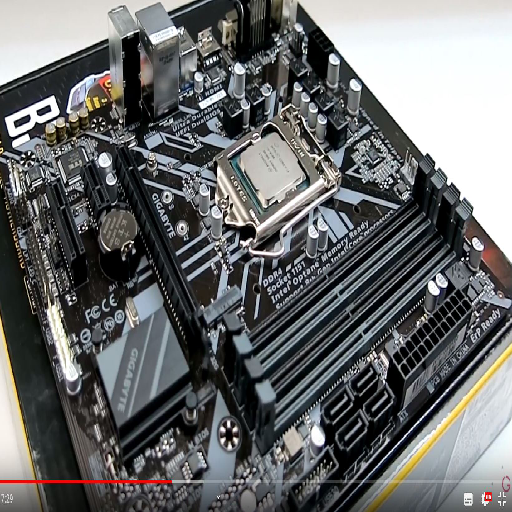CPU: (208, 110, 338, 239)
GPU: (109, 142, 206, 344)
MOTHERBOARD: (5, 6, 496, 501)
RAM: (218, 154, 472, 445)
SSD: (201, 286, 244, 329)
